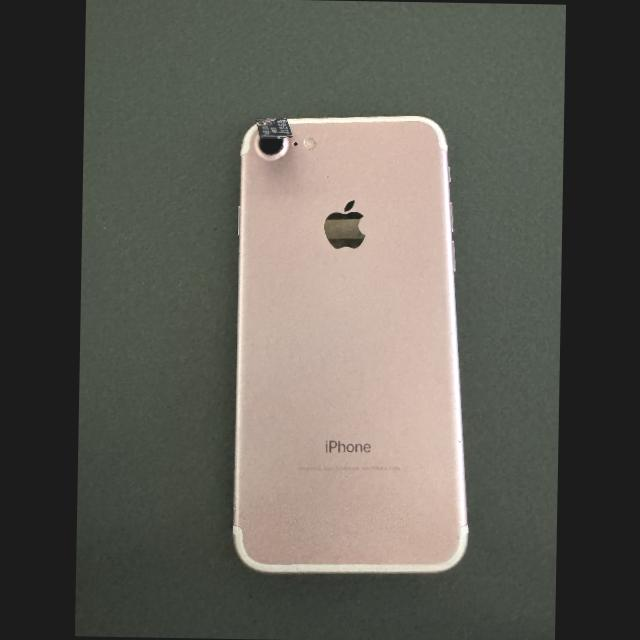lens: (260, 139, 283, 155)
phone: (232, 116, 468, 573)
sticker: (255, 116, 292, 139)
